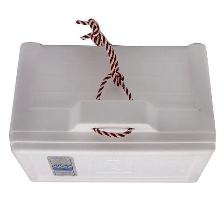foam_box: (5, 16, 221, 189)
